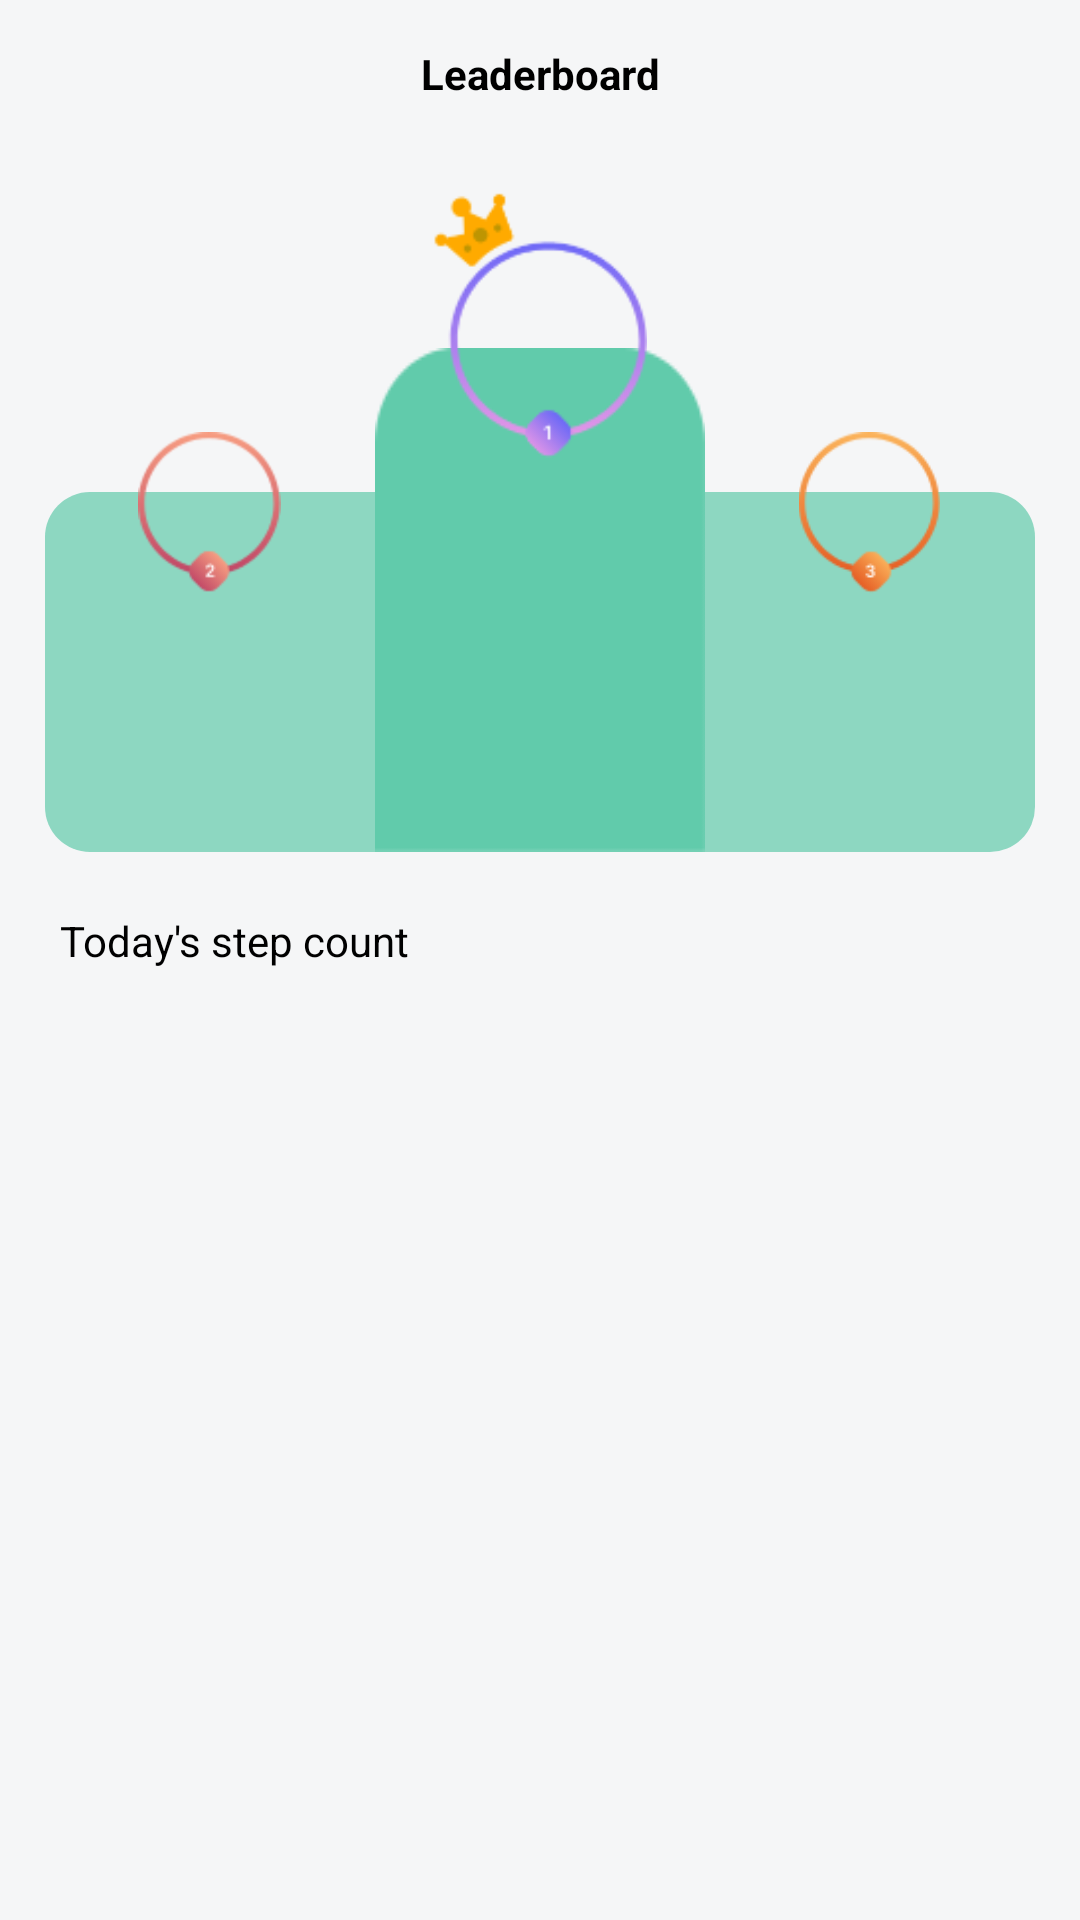

Named icons in this screenshot (1080px×1920px) and their centers, [x,y]:
lead one: [540,327]
lead three: [869,514]
lead two: [209,514]
